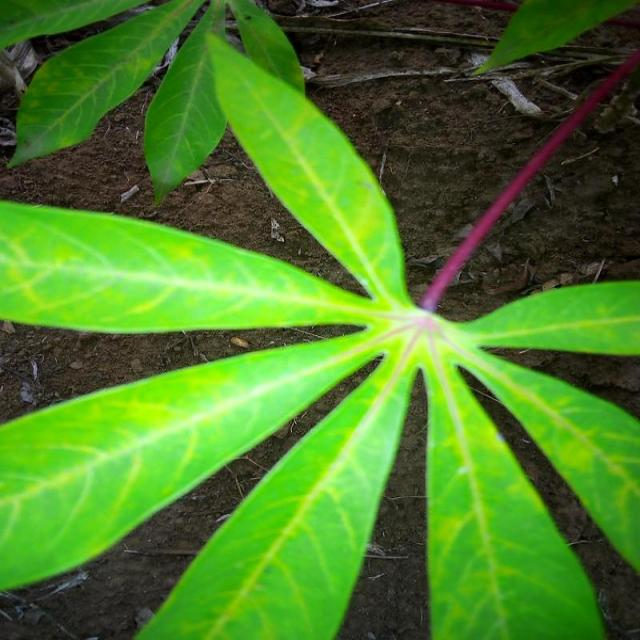cassava leaf: (0, 6, 638, 638), (424, 355, 606, 638)
